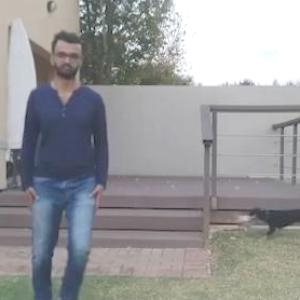follow: (18, 23, 123, 299)
